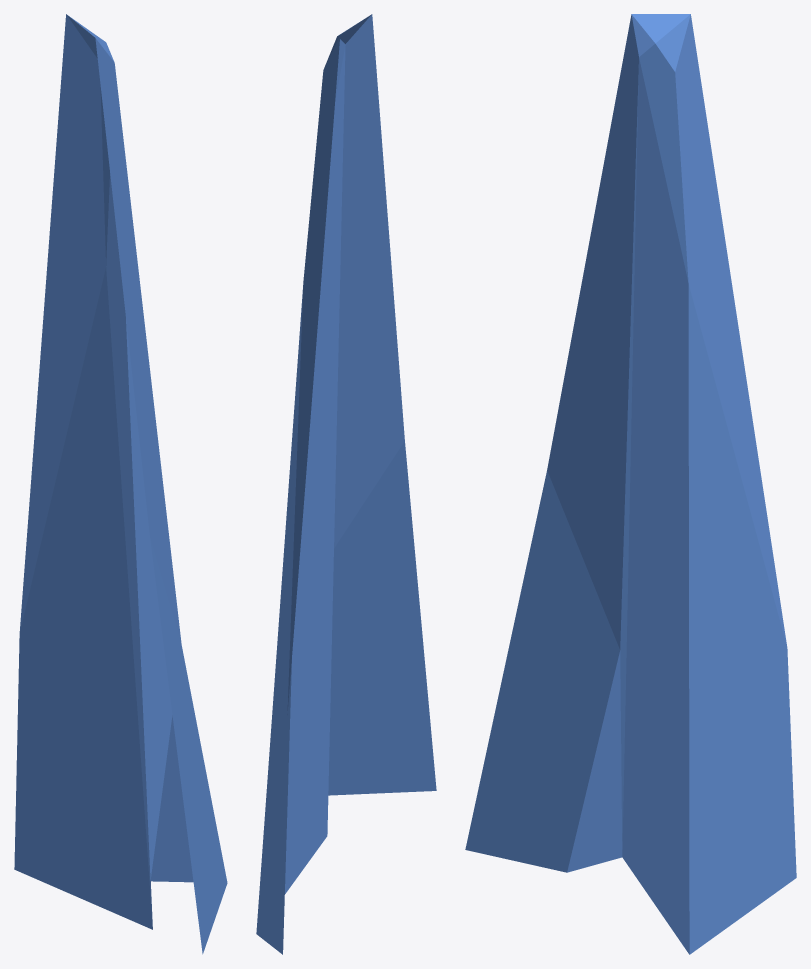
Rendered from Bathroom2_towel3.fbx.
The picture shows the model from 3 angles, left to right: view 1: azimuth 30°, elevation 25°; view 2: azimuth 150°, elevation 25°; view 3: azimuth 270°, elevation 25°; orthographic projection. The views are drawn at different scales.
Visible parts, largest first — view 1: Bathroom2_towel3; view 2: Bathroom2_towel3; view 3: Bathroom2_towel3.
Part boxes in pixels (left/top/right/bottom): Bathroom2_towel3: left=14, top=14, right=227, bottom=954; Bathroom2_towel3: left=256, top=14, right=436, bottom=954; Bathroom2_towel3: left=465, top=14, right=796, bottom=954.
Size of the model in its own units: 21.36 by 194 by 64.63.
